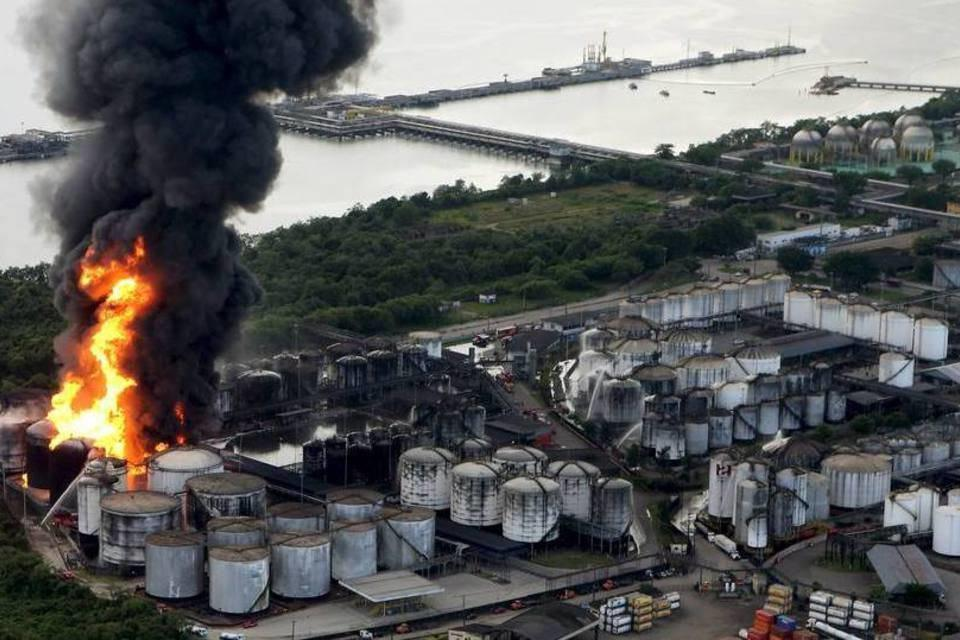Fire: (38, 228, 184, 464)
